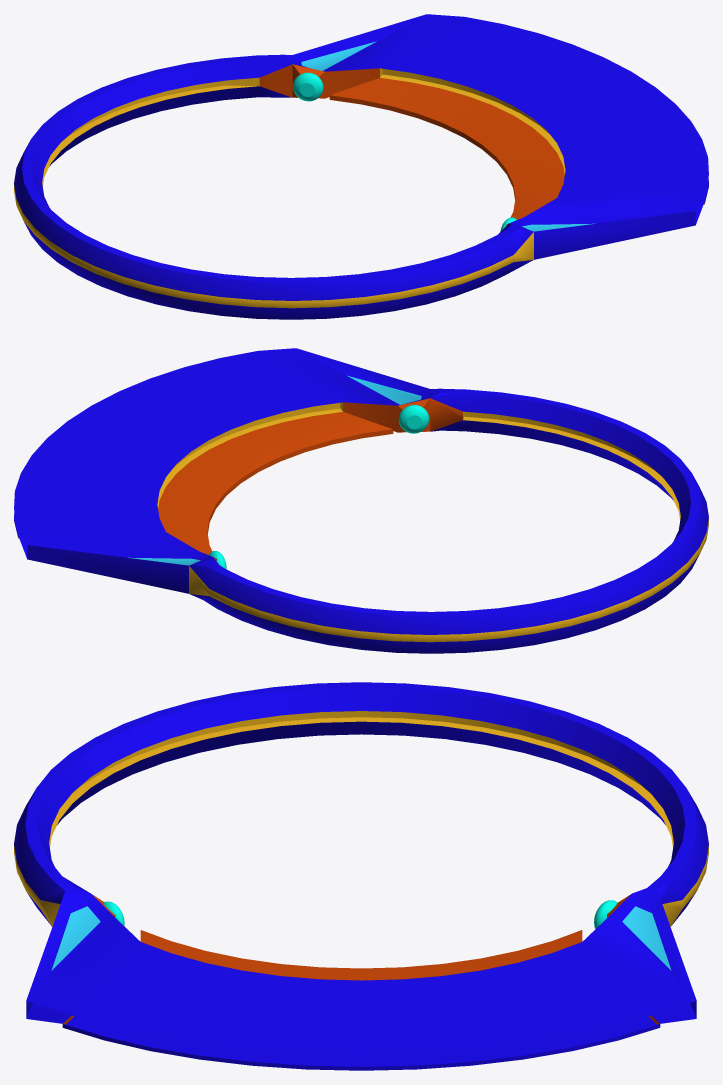
Rendered from Horizontal Teleporter.FBX.
The picture shows the model from 3 angles, top to bottom: view 1: azimuth 30°, elevation 25°; view 2: azimuth 150°, elevation 25°; view 3: azimuth 270°, elevation 25°; orthographic projection. The views are drawn at different scales.
Parts seen in each view (by area): view 1: Sphere008; view 2: Sphere008; view 3: Sphere008.
Part boxes in pixels (x1,y1,x2,y2): Sphere008: (14,14,708,319); Sphere008: (14,348,708,653); Sphere008: (14,682,708,1070).
Size of the model in its own units: 19.13 by 1.15 by 15.28.
